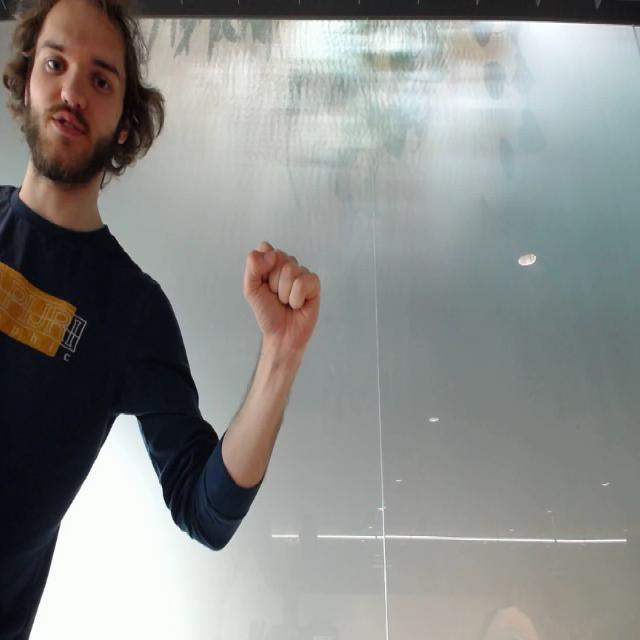stop: (239, 237, 325, 356)
